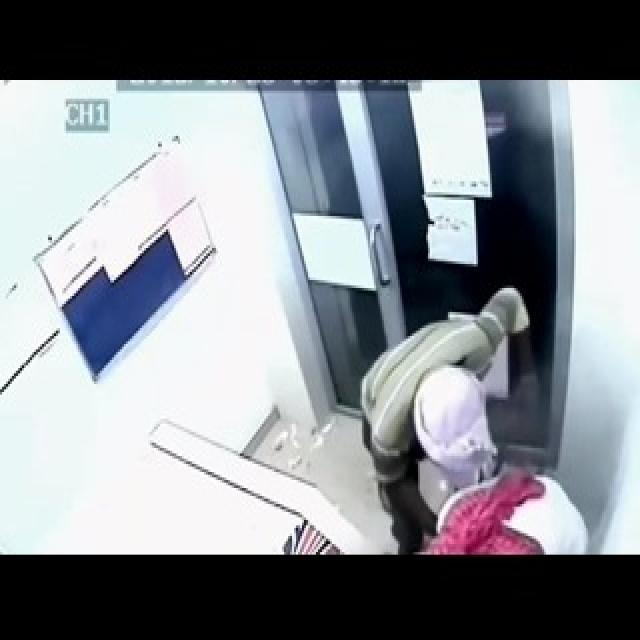thief: (384, 357, 583, 550)
